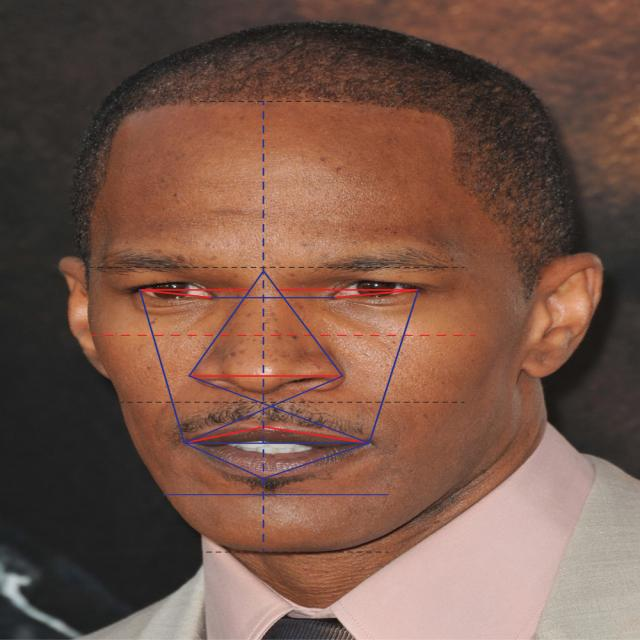front: (60, 124, 542, 544)
